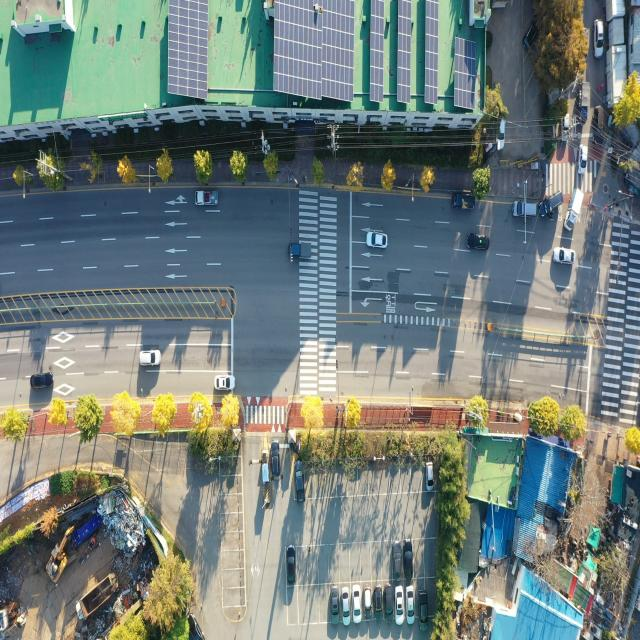car: (542, 193, 566, 221), (512, 198, 538, 221), (594, 17, 605, 62), (592, 106, 605, 144), (394, 585, 405, 624), (524, 20, 538, 50), (466, 234, 489, 252), (405, 583, 415, 624), (294, 462, 304, 502), (31, 374, 54, 391), (286, 547, 296, 585), (496, 118, 506, 156), (384, 585, 394, 622), (373, 586, 383, 622), (405, 540, 414, 579), (330, 587, 339, 625), (368, 232, 388, 249), (393, 541, 402, 578), (140, 350, 160, 366), (214, 376, 234, 392), (554, 248, 574, 264), (343, 589, 351, 627), (420, 592, 428, 630), (272, 442, 281, 475), (353, 586, 361, 622), (579, 144, 587, 172), (365, 587, 372, 619), (563, 115, 570, 143), (427, 462, 433, 491)
medium_truck: (75, 573, 120, 625)
small_truck: (566, 188, 584, 232), (576, 80, 592, 126), (288, 242, 313, 260), (452, 194, 475, 212), (197, 191, 220, 208)
